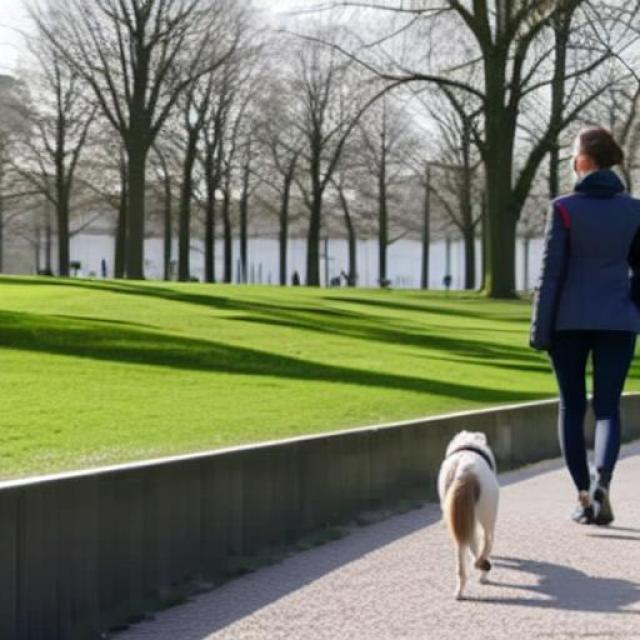Unleashed_Dog: (438, 336, 636, 601)
